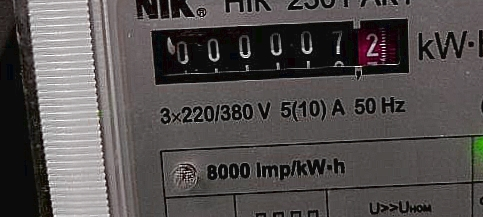0: (235, 30, 251, 59), (172, 37, 189, 64), (266, 29, 283, 56), (204, 34, 220, 61), (298, 27, 313, 55)
2: (363, 31, 379, 57)
7: (329, 26, 344, 56)
screen: (138, 11, 420, 89)
